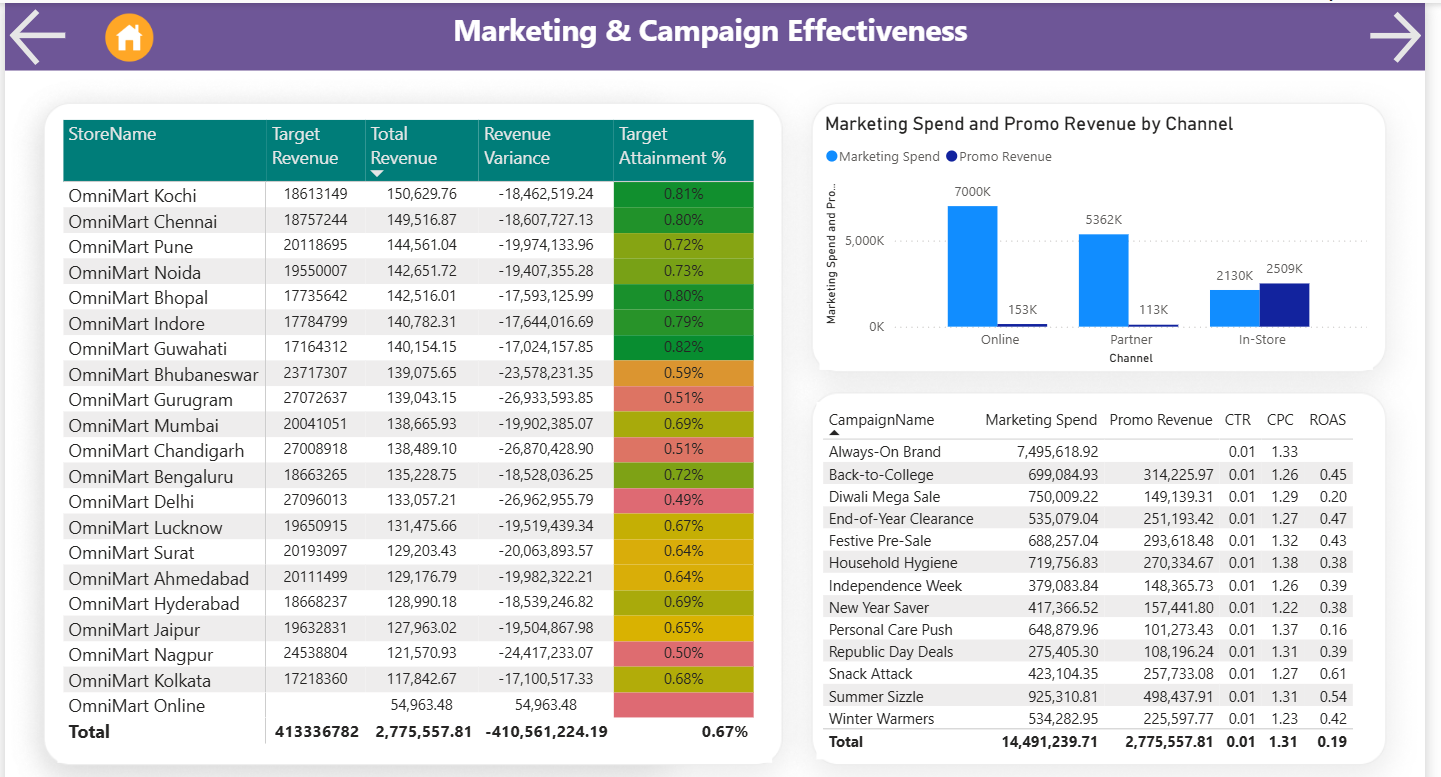

What the dashboard file says about the page in this screenshot:
{"tool":"powerbi","page":{"name":"Marketing Effectiveness","canvas":[1280,720],"ordinal":2},"visuals":[{"type":"pivotTable","fields":{"Rows":["DimStore.StoreName"],"Values":["FactTargets.Target Revenue","FactSales.Total Revenue","FactTargets.Revenue Variance","FactTargets.Target Attainment %"]},"box":[47.8,100.4,643.7,584.8],"z":0},{"type":"clusteredColumnChart","fields":{"Y":["FactMarketing.Marketing Spend","FactMarketing.Promo Revenue"],"Category":["DimChannel.Channel"]},"box":[733.3,98.3,498.3,231.7],"z":1000},{"type":"tableEx","fields":{"Values":["DimPromotion.CampaignName","FactMarketing.Marketing Spend","FactMarketing.Promo Revenue","FactMarketing.CTR","FactMarketing.CPC","FactMarketing.ROAS"]},"box":[731.7,360,498.3,321.7],"z":2000},{"type":"textbox","box":[398.3,0,483.3,50],"z":3000},{"type":"actionButton","box":[0,0,76.7,61.7],"z":4000},{"type":"actionButton","box":[1223.3,0,56.7,61.7],"z":5000},{"type":"image","box":[76.7,10,70,43.3],"z":6000}]}

Visuals, with their boxes on the page's 1280x720 design canvas (x1, y1, x2, y2). These are canvas units, not pixel positions in the 1441x777 screenshot, which may show the page scaled, cropped or inside an application window:
pivotTable - DimStore.StoreName x FactTargets.Target Revenue: (x1=48, y1=100, x2=692, y2=685)
clusteredColumnChart - FactMarketing.Marketing Spend x FactMarketing.Promo Revenue: (x1=733, y1=98, x2=1232, y2=330)
tableEx - DimPromotion.CampaignName x FactMarketing.Marketing Spend: (x1=732, y1=360, x2=1230, y2=682)
textbox: (x1=398, y1=0, x2=882, y2=50)
actionButton: (x1=0, y1=0, x2=77, y2=62)
actionButton: (x1=1223, y1=0, x2=1280, y2=62)
image: (x1=77, y1=10, x2=147, y2=53)
